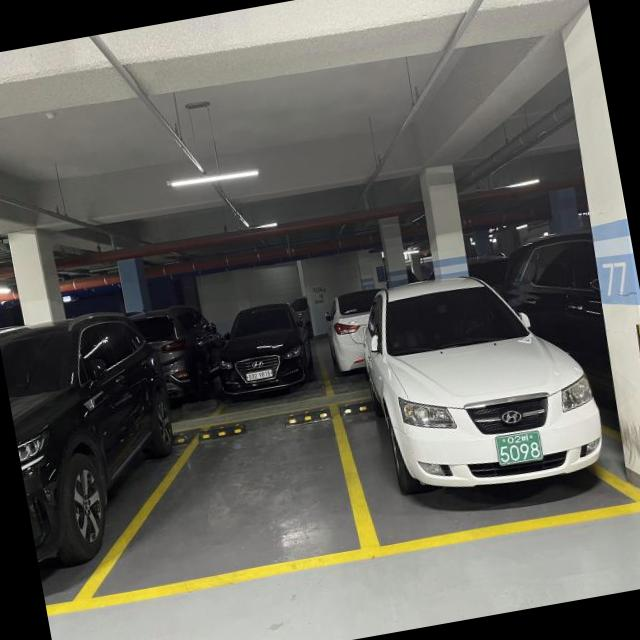car: (342, 236, 634, 562)
free: (48, 399, 364, 612)
